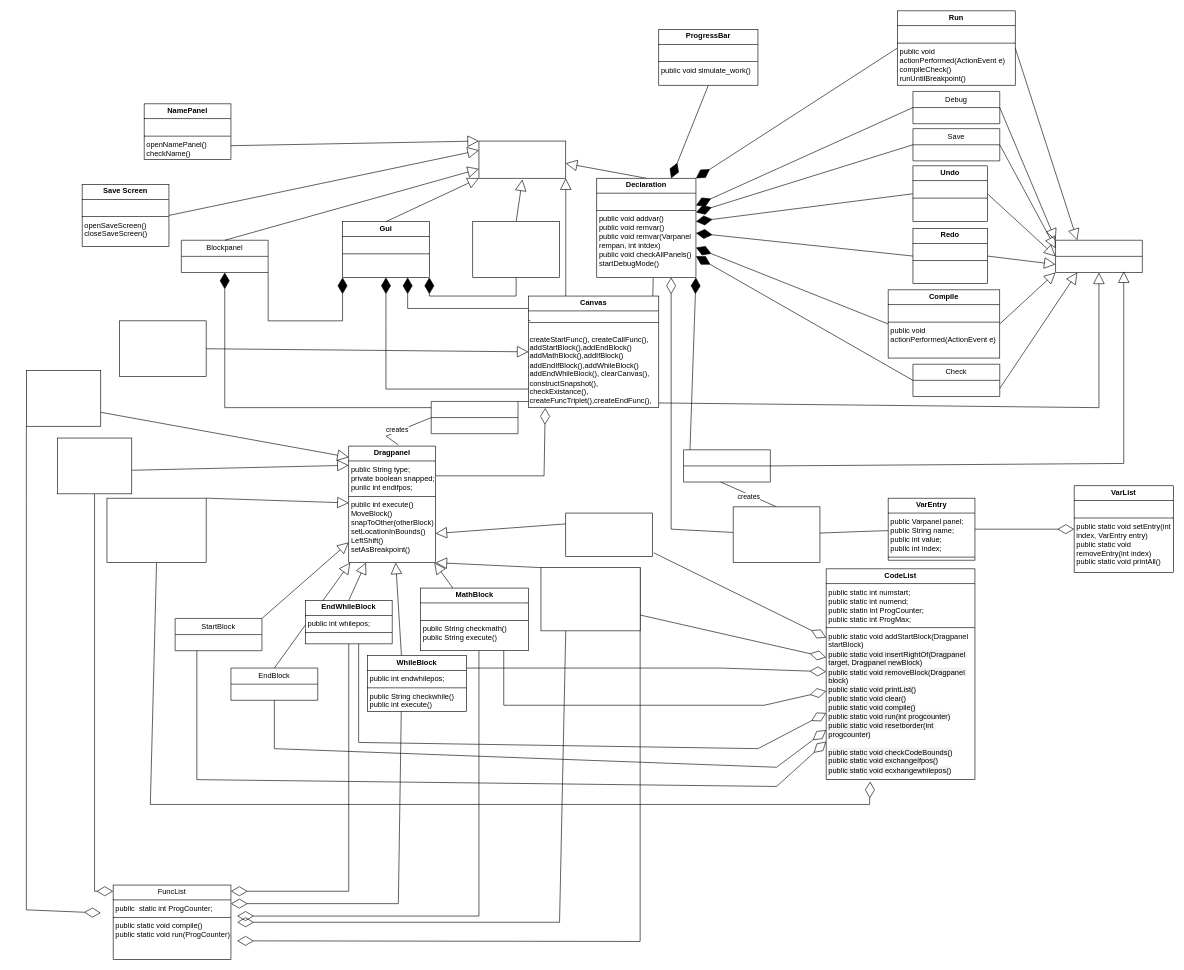
The diagram is 1184 pixels wide and 970 high, and some of its shapes have lost their labels. Each missing label, with the centre of its shape:
Blockbutton: (474,417)
button: (1098,256)
CallFuncBlock public String checkfunc() public int execute(): (156,530)
Declbutton: (726,465)
EndFuncBlock: (63,398)
EndIfBlock public int ifpos;: (609,534)
GhostBlock: (162,348)
IfBlock public int endifpos; public String checkif() public int execute(): (590,599)
Output public void create_out_elements(): (516,249)
Panel: (522,159)
StartFuncBlock: (94,465)
VarPanel private int index; public void rempanel() public String getEntry(): (776,534)
